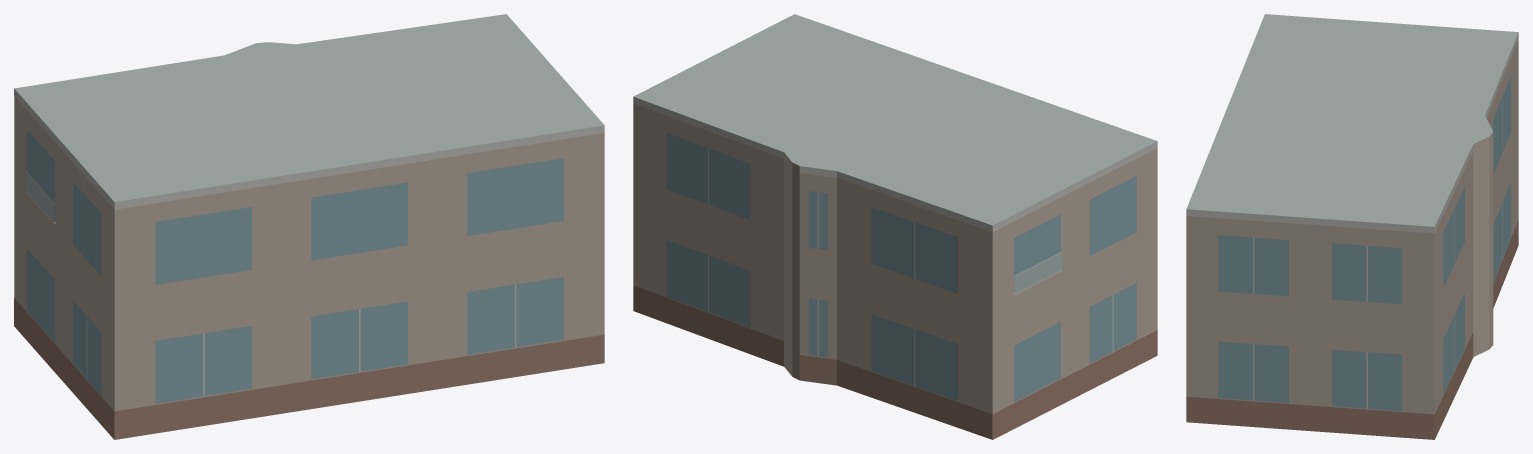
Rendered from survey-upis-32623874.glb.
3 renders of one model, left to right at view 1: azimuth 30°, elevation 25°; view 2: azimuth 150°, elevation 25°; view 3: azimuth 270°, elevation 25°, orthographic. The views are drawn at different scales.
Parts seen in each view (by area): view 1: survey-upis-32623874.tmp; view 2: survey-upis-32623874.tmp; view 3: survey-upis-32623874.tmp.
Part boxes in pixels (box(x1,y1,x2,y2)): survey-upis-32623874.tmp: box(14, 14, 604, 439); survey-upis-32623874.tmp: box(633, 14, 1157, 439); survey-upis-32623874.tmp: box(1186, 14, 1518, 439).
Size of the model in its own units: 16.51 by 7.7 by 10.9.
